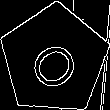O_NE: (22, 28, 86, 92)
